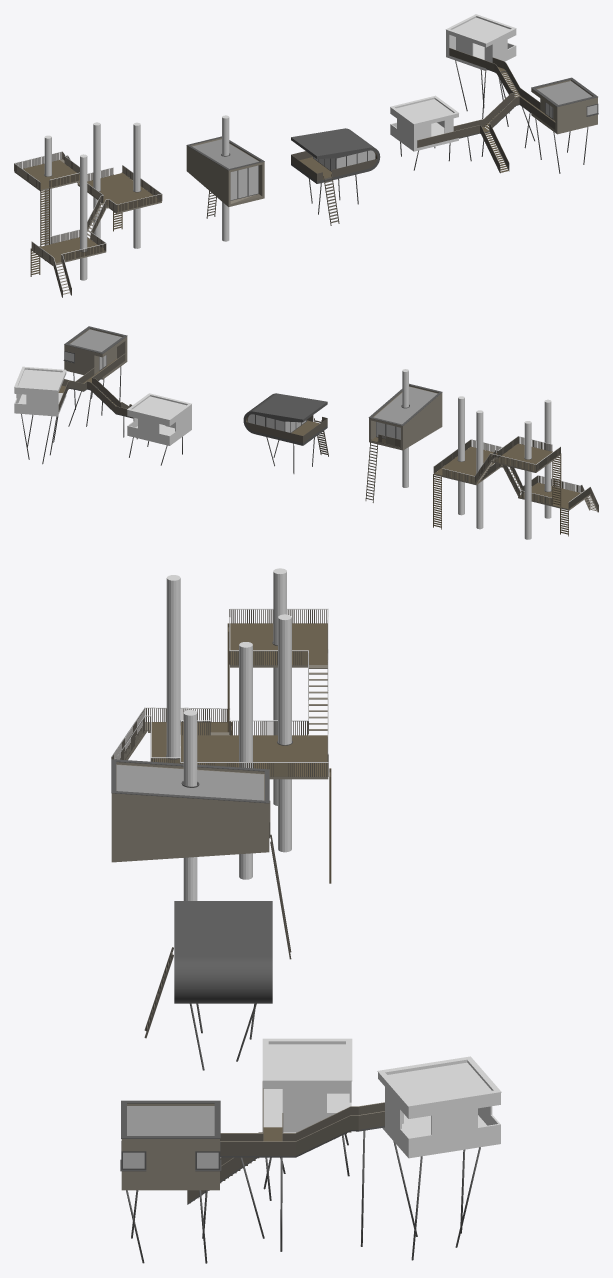
The model's file is 04_Hausvarianten.fbx.
3 renders of one model, top to bottom at view 1: azimuth 30°, elevation 25°; view 2: azimuth 150°, elevation 25°; view 3: azimuth 270°, elevation 25°, orthographic. The views are drawn at different scales.
Parts seen in each view (by area): view 1: Plattformen, Geländer, Bäume, Baumhaus_3, Brüstung_2, Baumhaus_01_Instance, Baumhaus_01_Instance_1, Baumhaus_01, Baumhaus_2, Leitern, Stahlstützen_2, Glas (+6 smaller); view 2: Plattformen, Bäume, Baumhaus_3, Geländer, Baumhaus_01_Instance_1, Baumhaus_01_Instance, Baumhaus_01, Baumhaus_2, Brüstung_2, Leitern, Stahlstützen_2, Brüstung (+5 smaller); view 3: Baumhaus_3, Baumhaus_2, Baumhaus_01_Instance, Plattformen, Bäume, Baumhaus_01, Baumhaus_01_Instance_1, Brüstung_2, Geländer, Stahlstützen_2, Baum, Handlauf.
Part boxes in pixels (x1,y1,x2,y2): Plattformen: (14, 159, 161, 296); Geländer: (14, 152, 162, 297); Bäume: (44, 122, 140, 280); Baumhaus_3: (186, 136, 264, 206); Brüstung_2: (417, 48, 555, 172); Baumhaus_01_Instance: (445, 14, 516, 70); Baumhaus_01_Instance_1: (390, 95, 458, 151); Baumhaus_01: (531, 77, 597, 134); Baumhaus_2: (291, 128, 380, 183); Leitern: (30, 172, 122, 276); Stahlstützen_2: (400, 60, 588, 173); Glas: (230, 165, 258, 199); Plattformen: (434, 443, 598, 512); Bäume: (458, 396, 551, 539); Baumhaus_3: (368, 383, 442, 450); Geländer: (433, 436, 598, 511); Baumhaus_01_Instance_1: (127, 393, 191, 445); Baumhaus_01_Instance: (14, 366, 66, 416); Baumhaus_01: (64, 326, 127, 379); Baumhaus_2: (243, 393, 327, 445); Brüstung_2: (58, 354, 132, 417); Leitern: (433, 451, 568, 536); Stahlstützen_2: (21, 366, 182, 465); Brüstung: (246, 415, 327, 442); Baumhaus_3: (111, 759, 269, 862); Baumhaus_2: (174, 901, 272, 1003); Baumhaus_01_Instance: (377, 1056, 501, 1158); Plattformen: (120, 623, 328, 779); Bäume: (166, 568, 291, 879); Baumhaus_01: (121, 1100, 220, 1190); Baumhaus_01_Instance_1: (262, 1038, 352, 1132); Brüstung_2: (187, 1103, 384, 1202); Geländer: (111, 609, 328, 776); Stahlstützen_2: (126, 1130, 480, 1263); Baum: (183, 710, 197, 900); Handlauf: (111, 608, 328, 762).
Size of the model in its own units: 5964 by 1302 by 1984.
